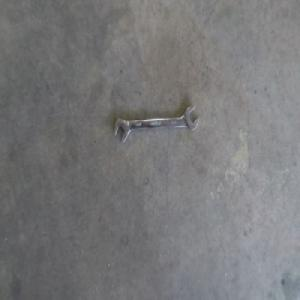Wrench: (112, 109, 202, 150)
